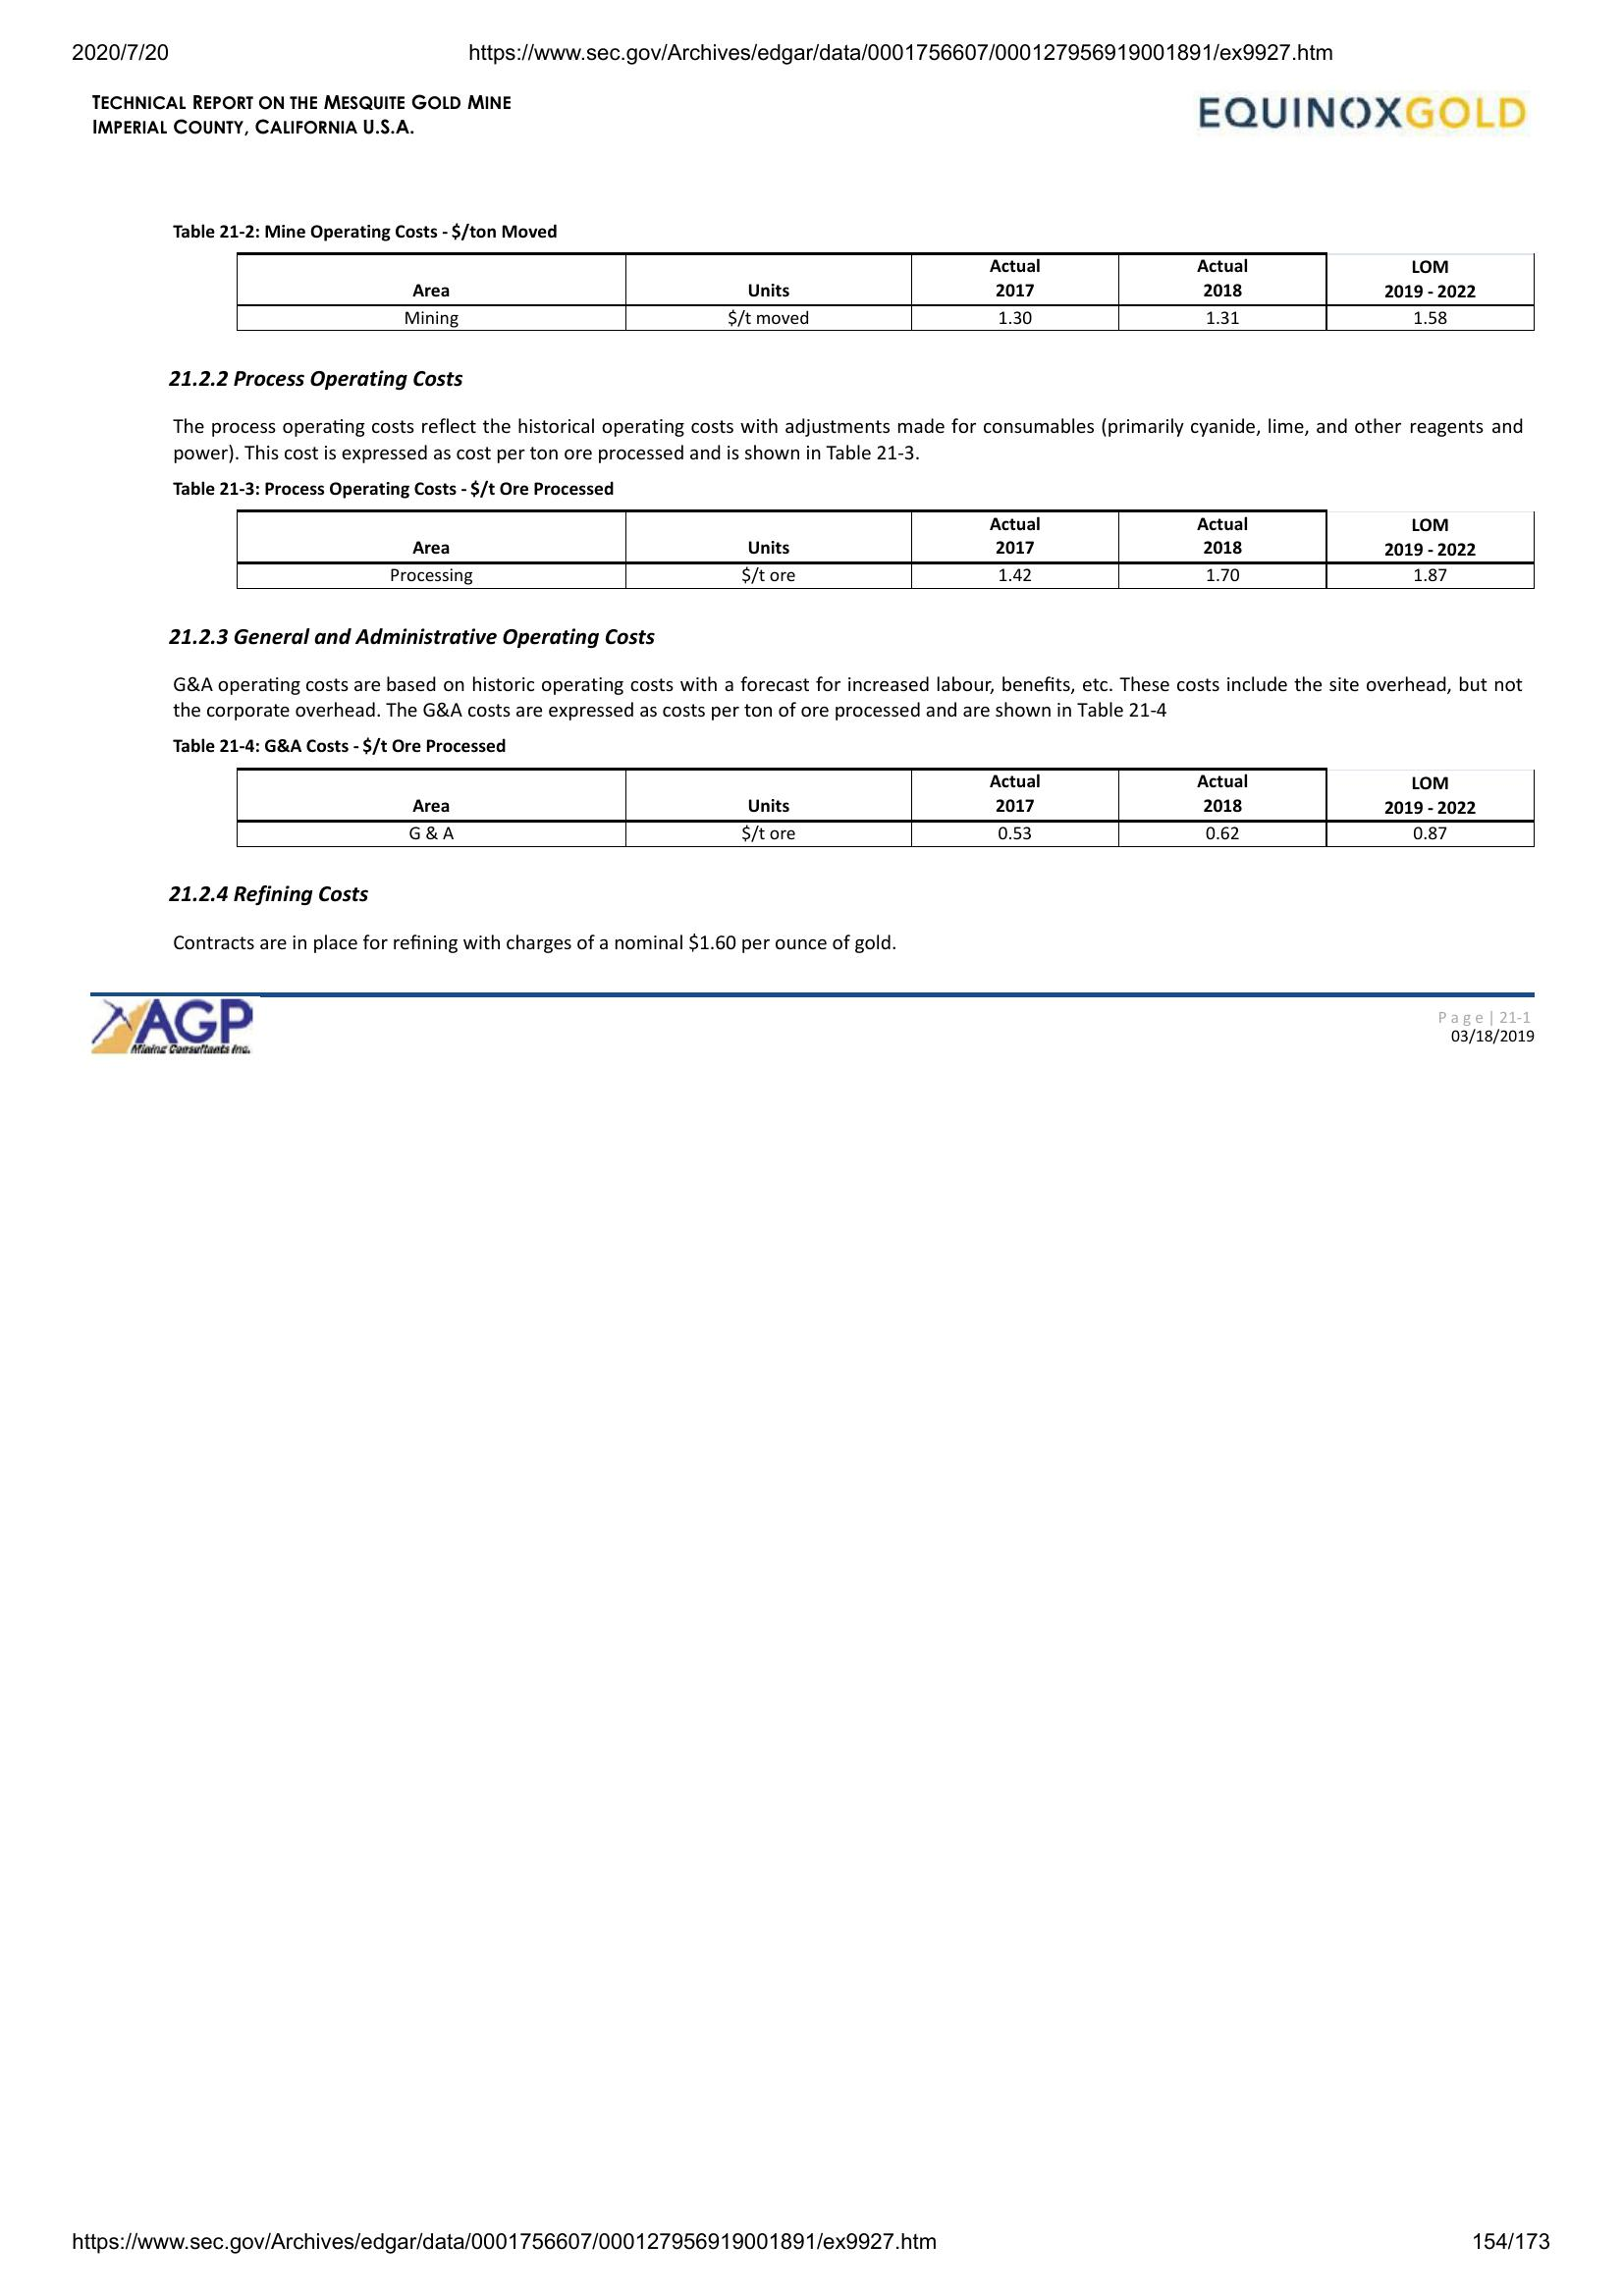table: (228, 500, 1542, 599), (230, 246, 1542, 339), (230, 764, 1546, 855)
